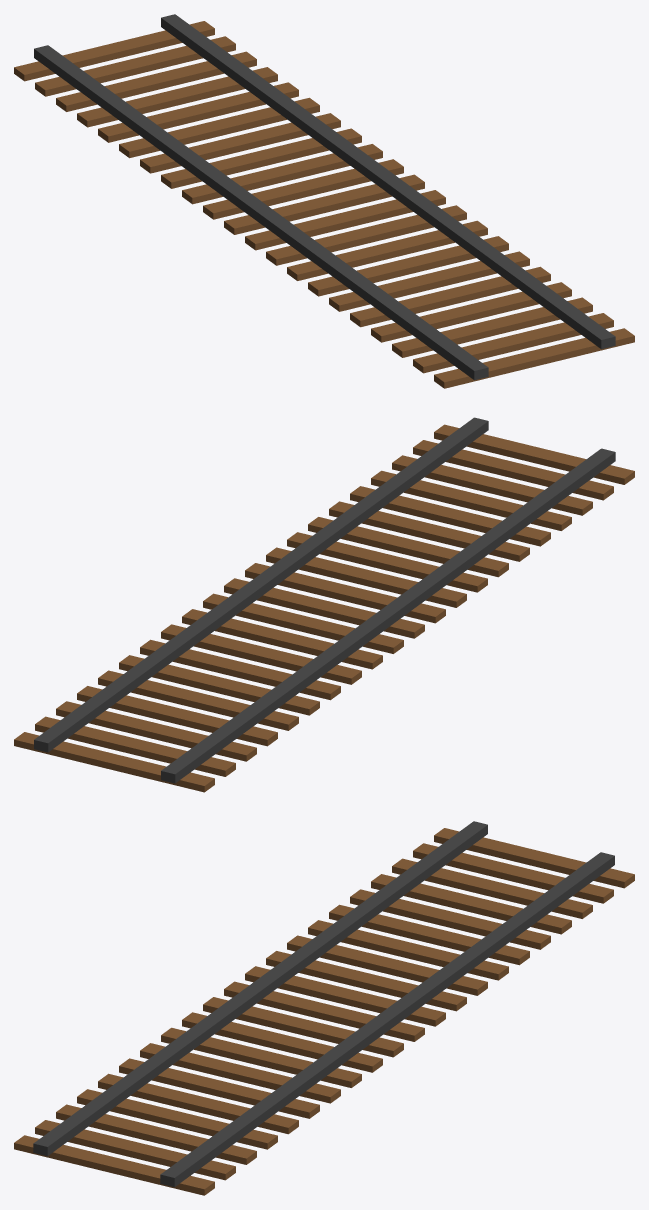
File: Railway_01.fbx
The picture shows the model from 3 angles, top to bottom: view 1: azimuth 30°, elevation 25°; view 2: azimuth 150°, elevation 25°; view 3: azimuth 330°, elevation 25°; orthographic projection.
Visible parts, largest first — view 1: Railway_01; view 2: Railway_01; view 3: Railway_01.
Boxes of the visible parts, x1,y1,x2,y2 form: Railway_01: (14,14,634,388); Railway_01: (14,417,634,792); Railway_01: (14,821,634,1195).
Bounding box in the file's own units: 250 × 19.57 × 1000.
